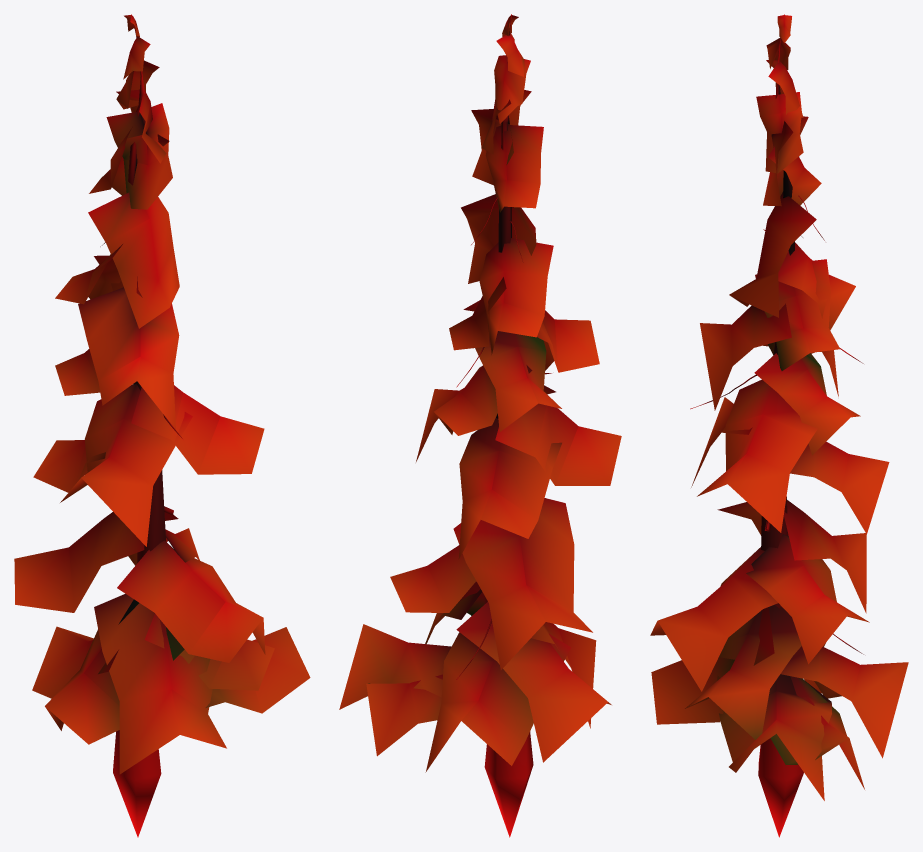
The model's file is SpruceTreeRHEWP_E.fbx.
3 views of the same model, side by side, from view 1: azimuth 30°, elevation 25°; view 2: azimuth 150°, elevation 25°; view 3: azimuth 270°, elevation 25° (orthographic).
Visible parts, largest first — view 1: STE_Leaves_LOD0, STE_Bark_LOD0; view 2: STE_Leaves_LOD0, STE_Bark_LOD0; view 3: STE_Leaves_LOD0, STE_Bark_LOD0.
Part boxes in pixels (x1=…): STE_Leaves_LOD0: x1=14, y1=15, x2=310, y2=774; STE_Bark_LOD0: x1=100, y1=14, x2=183, y2=837; STE_Leaves_LOD0: x1=339, y1=15, x2=621, y2=772; STE_Bark_LOD0: x1=456, y1=14, x2=551, y2=837; STE_Leaves_LOD0: x1=650, y1=15, x2=908, y2=800; STE_Bark_LOD0: x1=690, y1=14, x2=863, y2=837.
Size of what is drawn, in the model's own units: 7.71 by 24.25 by 6.92.
